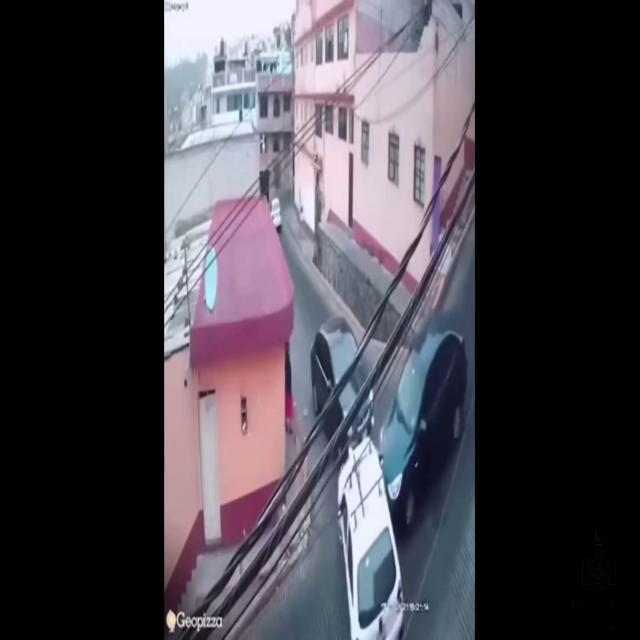accident: (306, 317, 464, 639)
